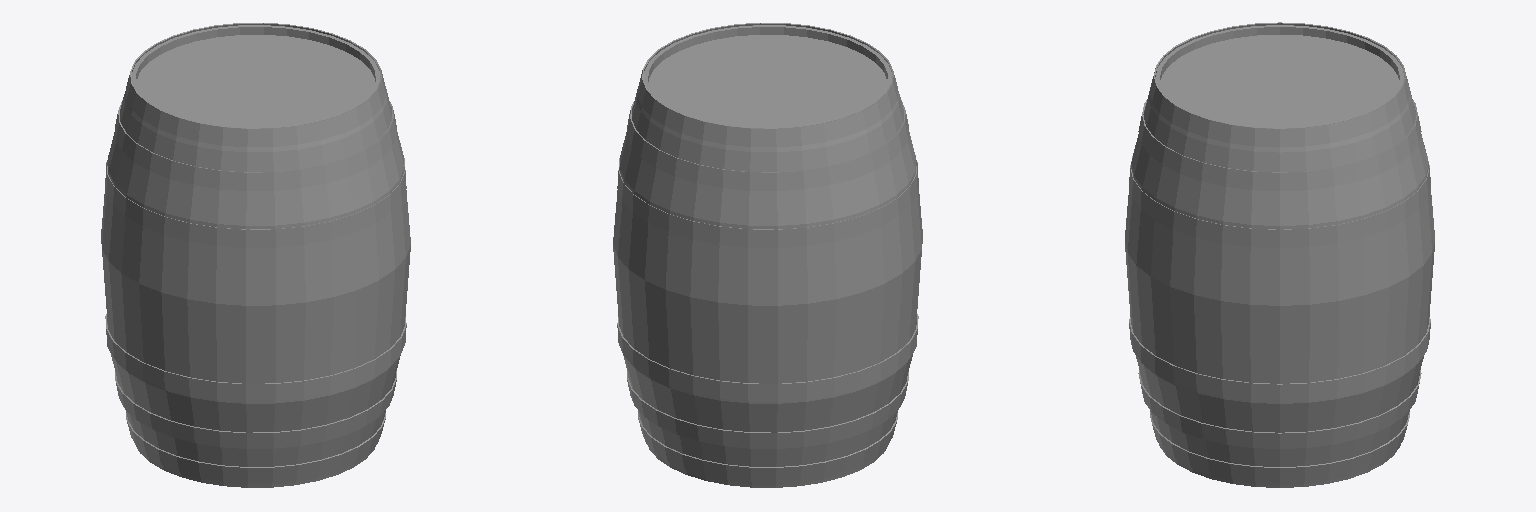
The model's file is Barrel.obj.
The picture shows the model from 3 angles: view 1: azimuth 30°, elevation 25°; view 2: azimuth 150°, elevation 25°; view 3: azimuth 270°, elevation 25°; orthographic projection.
Parts seen in each view (by area): view 1: Barrel_Circle.004; view 2: Barrel_Circle.004; view 3: Barrel_Circle.004.
Boxes of the visible parts, x1=… form: Barrel_Circle.004: x1=101, y1=23, x2=410, y2=487; Barrel_Circle.004: x1=613, y1=23, x2=922, y2=487; Barrel_Circle.004: x1=1125, y1=22, x2=1434, y2=487.
Size of the model in its own units: 0.776 by 0.9929 by 0.776.